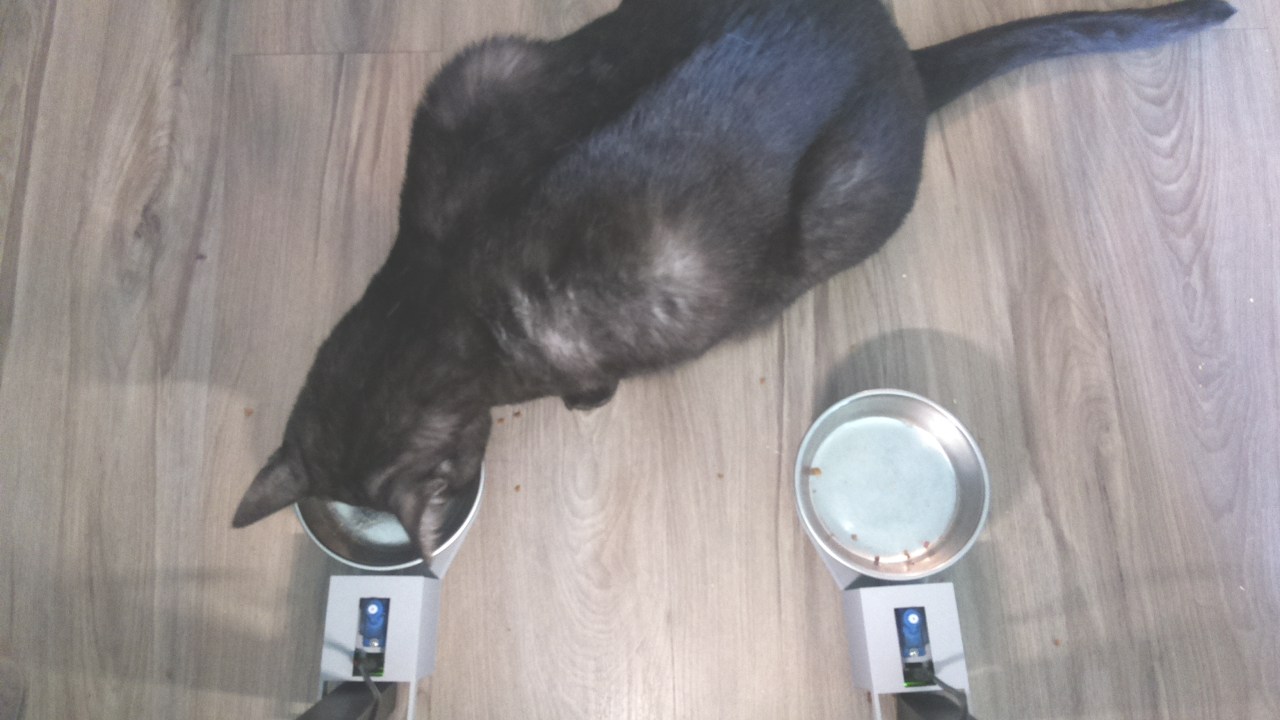open_bowl: (792, 386, 993, 589)
saki_eating: (219, 286, 494, 586)
